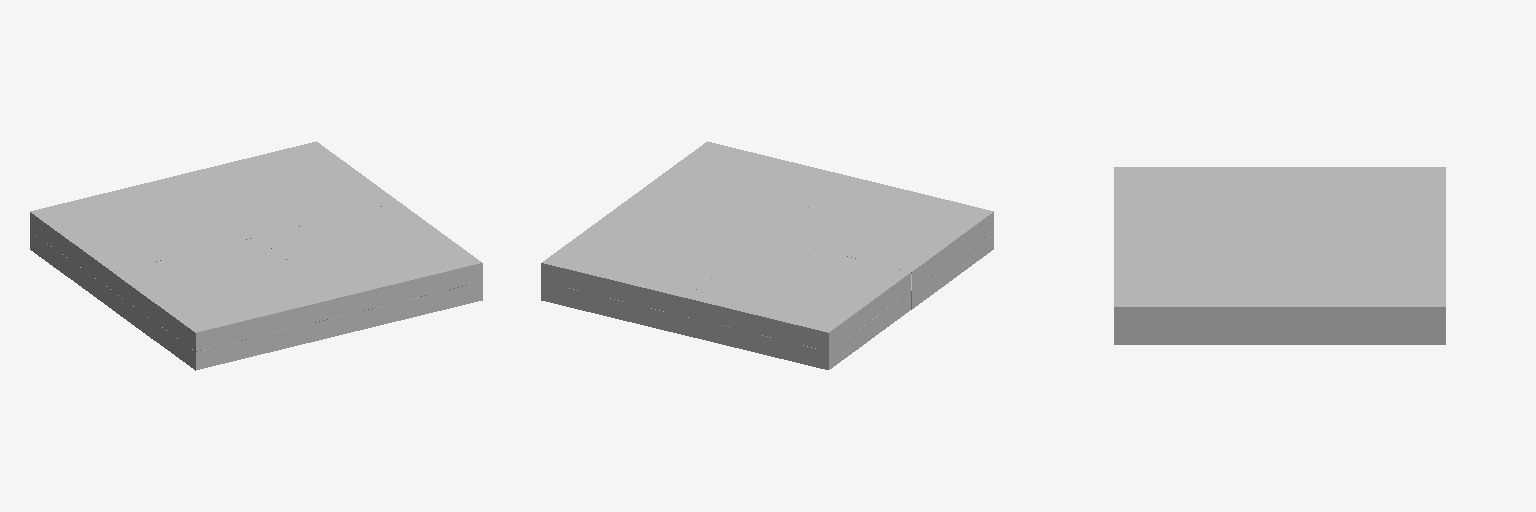
File: prueba.obj
The picture shows the model from 3 angles: view 1: azimuth 30°, elevation 25°; view 2: azimuth 150°, elevation 25°; view 3: azimuth 270°, elevation 25°; orthographic projection.
Visible parts, largest first — view 1: Cube.007; view 2: Cube.007; view 3: Cube.007.
Boxes of the visible parts, x1,y1,x2,y2 form: Cube.007: [30, 141, 482, 370]; Cube.007: [541, 141, 993, 369]; Cube.007: [1114, 167, 1445, 344].
Bounding box in the file's own units: 1 × 0.1254 × 1.